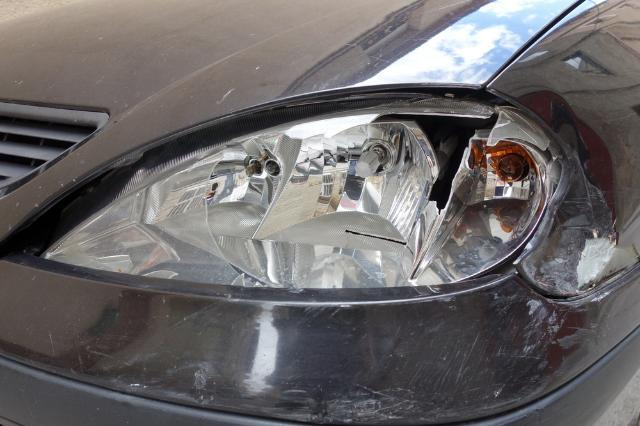dent: (519, 90, 618, 293)
lamp broken: (3, 94, 560, 290)
scratch: (106, 303, 533, 421)
